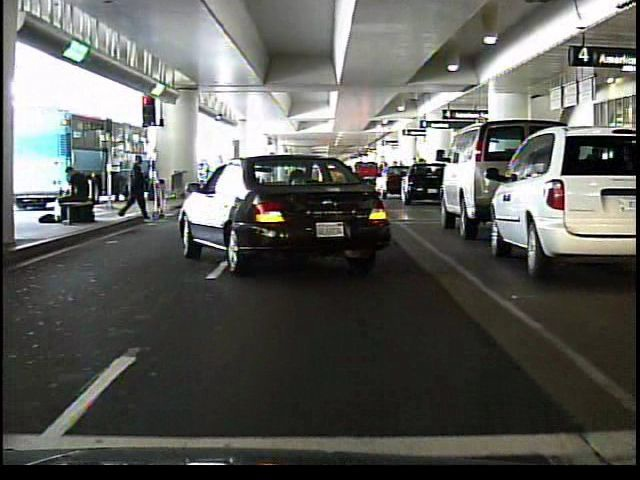person: (56, 163, 94, 230), (118, 149, 148, 217)
